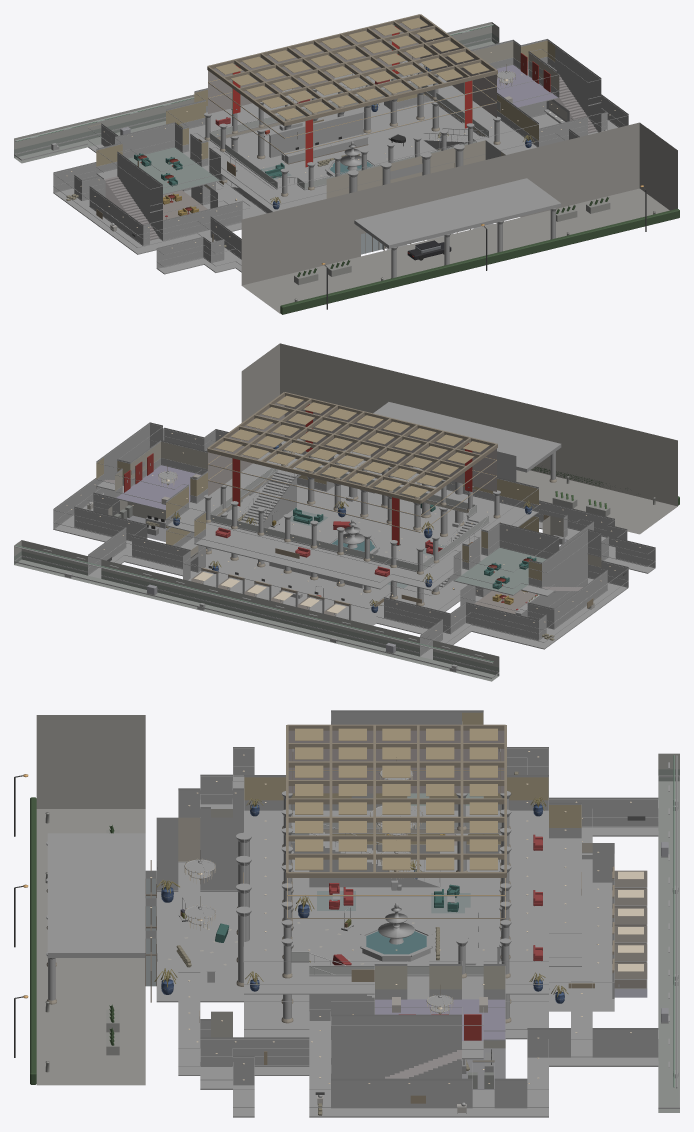
Rendered from hotel.gltf.
3 views of the same model, one above another, from view 1: azimuth 30°, elevation 25°; view 2: azimuth 150°, elevation 25°; view 3: azimuth 270°, elevation 25° (orthographic). The views are drawn at different scales.
Visible parts, largest first — view 1: ct_wide_main, ct_x+02_z-01_main, ct_x-03_z+00_main, ct_x-03_z-01_main, ct_x-02_z-01_main, ct_x-03_z-02_main, ct_x-01_z+01_main, ct_x-02_z-02_main, ct_x-01_z-01_main, ct_x+02_z+01_main, ct_x+00_z+01_main, ct_x+00_z-01_main (+14 smaller); view 2: ct_wide_main, ct_x+02_z-01_main, ct_x-03_z-01_main, ct_x-02_z-02_main, ct_x+01_z-02_main, ct_x+02_z-02_main, ct_x-02_z-01_main, ct_x-03_z-02_main, ct_x-03_z+00_main, ct_x+01_z-01_main, ct_x+00_z-01_main, ct_x-01_z-01_main (+15 smaller); view 3: ct_wide_main, ct_x+02_z-01_main, ct_x-03_z+01_main, ct_x+02_z+00_main, ct_x+02_z-02_main, ct_x-01_z-01_main, ct_x-01_z+00_main, ct_x+01_z-01_main, ct_x+00_z-01_main, ct_x+01_z-02_main, ct_x-02_z-02_main, ct_x-02_z-01_main (+22 smaller).
Part boxes in pixels (bbox=[...]): ct_wide_main: bbox=[14, 14, 679, 314]; ct_x+02_z-01_main: bbox=[496, 45, 601, 134]; ct_x-03_z+00_main: bbox=[131, 186, 241, 274]; ct_x-03_z-01_main: bbox=[104, 147, 217, 244]; ct_x-02_z-01_main: bbox=[163, 74, 288, 213]; ct_x-03_z-02_main: bbox=[53, 123, 173, 205]; ct_x-01_z+01_main: bbox=[361, 168, 453, 260]; ct_x-02_z-02_main: bbox=[122, 63, 242, 190]; ct_x-01_z-01_main: bbox=[257, 55, 367, 180]; ct_x+02_z+01_main: bbox=[639, 123, 677, 210]; ct_x+00_z+01_main: bbox=[429, 152, 520, 239]; ct_x+00_z-01_main: bbox=[329, 35, 447, 170]; ct_wide_main: bbox=[14, 343, 678, 681]; ct_x+02_z-01_main: bbox=[91, 422, 207, 520]; ct_x-03_z-01_main: bbox=[456, 526, 600, 616]; ct_x-02_z-02_main: bbox=[360, 486, 507, 639]; ct_x+01_z-02_main: bbox=[124, 440, 242, 581]; ct_x+02_z-02_main: bbox=[53, 456, 174, 574]; ct_x-02_z-01_main: bbox=[417, 452, 557, 602]; ct_x-03_z-02_main: bbox=[421, 561, 555, 655]; ct_x-03_z+00_main: bbox=[559, 521, 655, 592]; ct_x+01_z-01_main: bbox=[190, 407, 296, 528]; ct_x+00_z-01_main: bbox=[257, 413, 373, 547]; ct_x-01_z-01_main: bbox=[337, 433, 447, 588]; ct_wide_main: bbox=[30, 724, 679, 1117]; ct_x+02_z-01_main: bbox=[331, 966, 505, 1106]; ct_x-03_z+01_main: bbox=[36, 715, 200, 817]; ct_x+02_z+00_main: bbox=[200, 1011, 330, 1116]; ct_x+02_z-02_main: bbox=[462, 966, 648, 1108]; ct_x-01_z-01_main: bbox=[318, 747, 470, 953]; ct_x-01_z+00_main: bbox=[191, 747, 355, 946]; ct_x+01_z-01_main: bbox=[309, 857, 463, 1020]; ct_x+00_z-01_main: bbox=[332, 802, 456, 965]; ct_x+01_z-02_main: bbox=[460, 857, 614, 1057]; ct_x-02_z-02_main: bbox=[460, 728, 612, 891]; ct_x-02_z-01_main: bbox=[309, 728, 480, 890].
Size of the model in its own units: 74.09 by 15.06 by 61.08.
